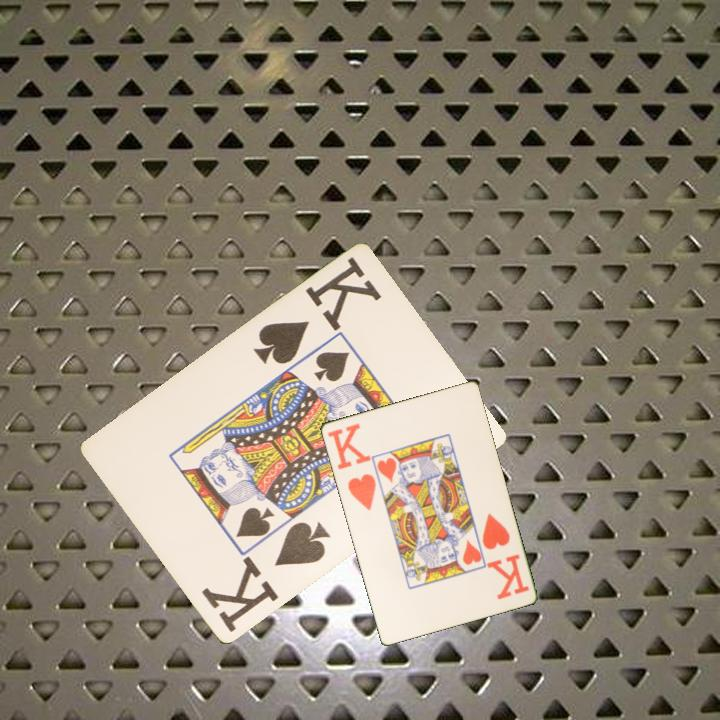Kh: (323, 419, 379, 513), (478, 509, 532, 602)
Ks: (198, 518, 334, 636), (249, 253, 384, 369)
